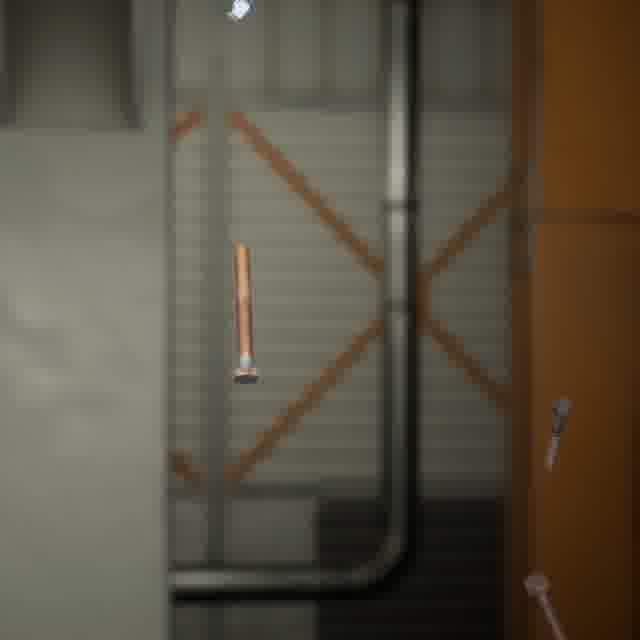bolt: (228, 240, 263, 388), (519, 568, 571, 640), (540, 393, 577, 477)
nut: (222, 0, 260, 26)
